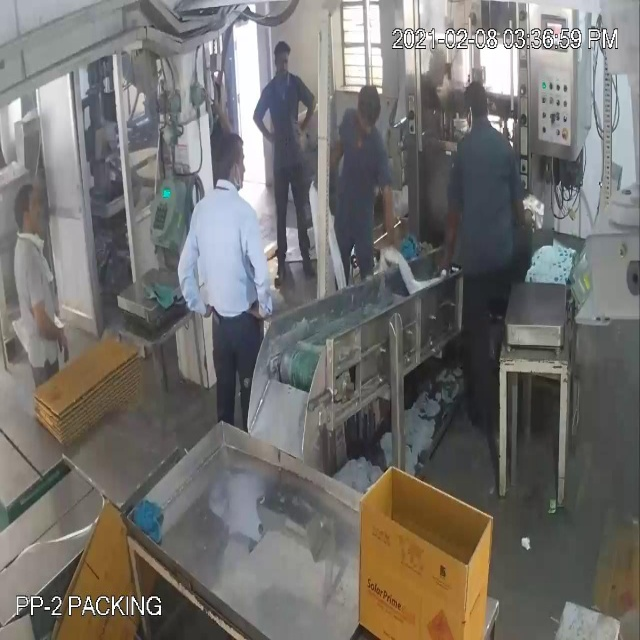Sin_guantes: (245, 218, 281, 340), (171, 228, 214, 325), (26, 300, 71, 365), (378, 160, 405, 265), (246, 95, 282, 138), (443, 204, 462, 282), (294, 78, 319, 137)
